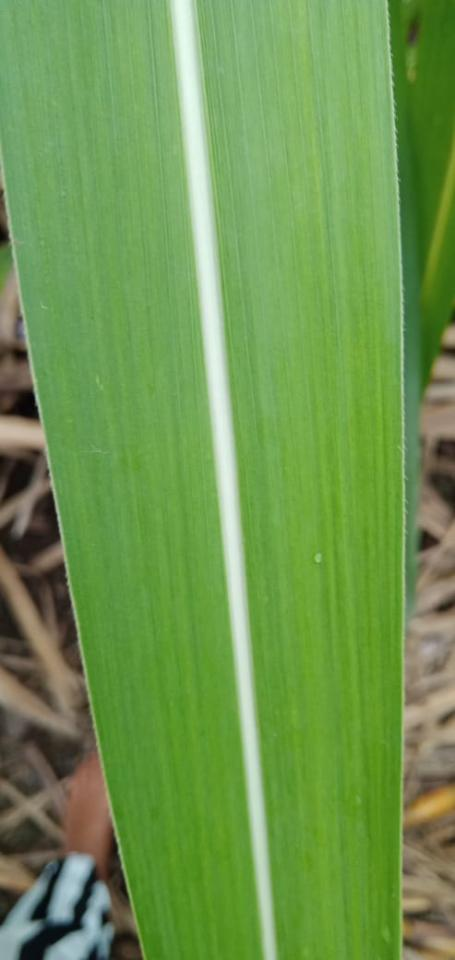Healthy: (0, 0, 404, 959), (388, 0, 454, 410)
